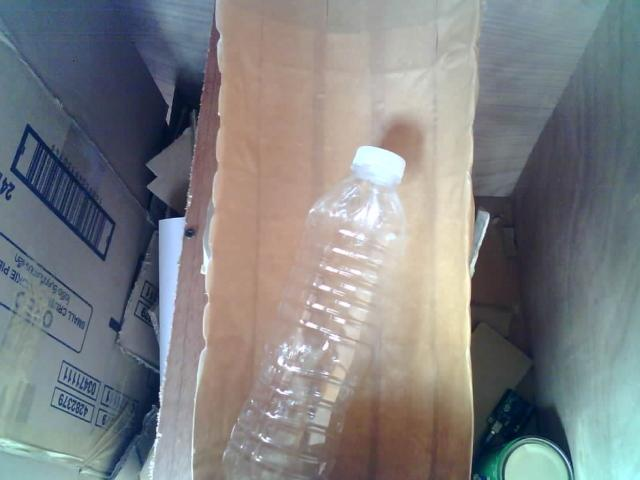small_bottle: (227, 134, 429, 480)
